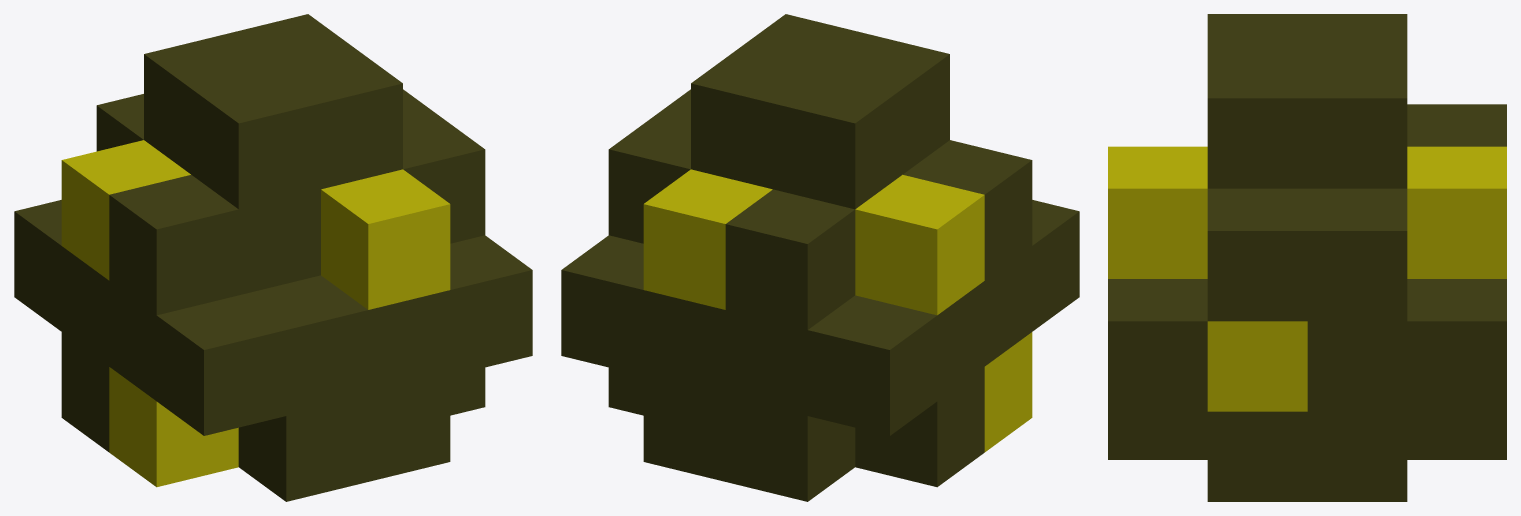
Rendered from Drago_Isabella_Vega_Heredia_fase_1.obj.
3 renders of one model, left to right at view 1: azimuth 30°, elevation 25°; view 2: azimuth 150°, elevation 25°; view 3: azimuth 270°, elevation 25°, orthographic. The views are drawn at different scales.
Parts seen in each view (by area): view 1: Drago_Isabella_Vega_Heredia_fase_1; view 2: Drago_Isabella_Vega_Heredia_fase_1; view 3: Drago_Isabella_Vega_Heredia_fase_1.
Boxes of the visible parts, x1,y1,x2,y2 form: Drago_Isabella_Vega_Heredia_fase_1: (14, 14, 532, 501); Drago_Isabella_Vega_Heredia_fase_1: (561, 14, 1079, 501); Drago_Isabella_Vega_Heredia_fase_1: (1108, 14, 1506, 501).
Size of the model in its own units: 4 by 4 by 4.
